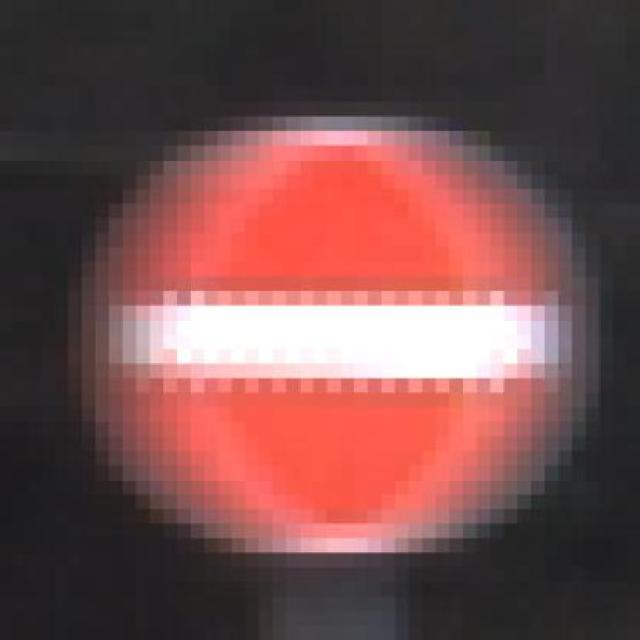No Entry: (69, 101, 613, 582)
